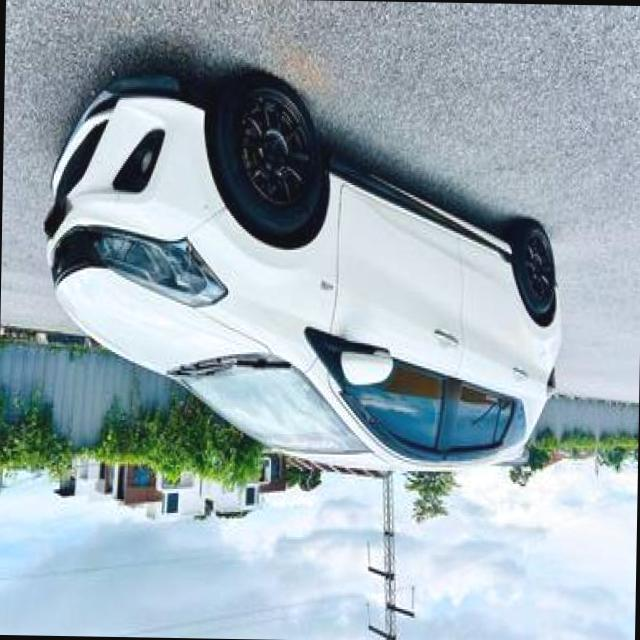PeroduaMyvi: (37, 66, 567, 480)
